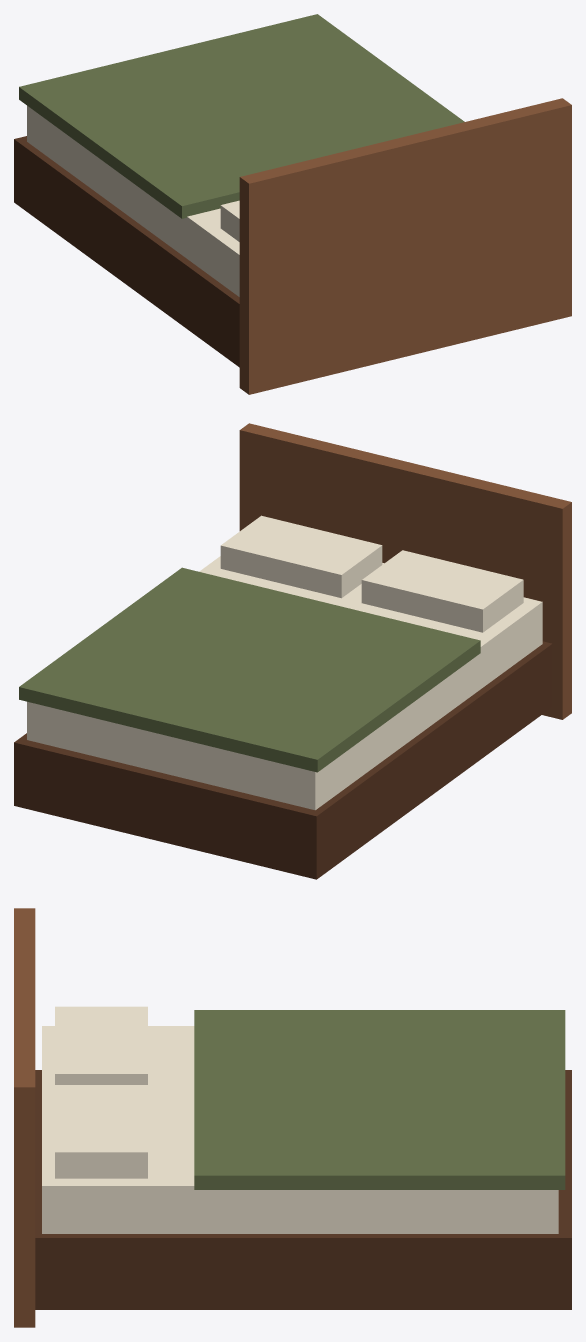
Rendered from parents_bed.glb.
3 renders of one model, top to bottom at view 1: azimuth 30°, elevation 25°; view 2: azimuth 150°, elevation 25°; view 3: azimuth 270°, elevation 25°, orthographic. The views are drawn at different scales.
Parts seen in each view (by area): view 1: Box6, Box3, Box1, Box2, Box5; view 2: Box3, Box1, Box6, Box2, Box5, Box4; view 3: Box3, Box1, Box2, Box6, Box4, Box5.
Boxes of the visible parts, left/top/right/bottom form: Box6: left=239, top=98, right=571, bottom=394; Box3: left=19, top=14, right=464, bottom=218; Box1: left=14, top=136, right=239, bottom=367; Box2: left=27, top=105, right=239, bottom=296; Box5: left=220, top=200, right=239, bottom=241; Box3: left=19, top=567, right=480, bottom=772; Box1: left=14, top=641, right=552, bottom=879; Box6: left=239, top=423, right=571, bottom=719; Box2: left=27, top=556, right=542, bottom=810; Box5: left=361, top=550, right=523, bottom=632; Box4: left=220, top=515, right=382, bottom=598; Box3: left=194, top=1010, right=565, bottom=1189; Box1: left=35, top=1070, right=571, bottom=1309; Box2: left=42, top=1026, right=558, bottom=1233; Box6: left=14, top=908, right=35, bottom=1327; Box4: left=55, top=1085, right=147, bottom=1178; Box5: left=55, top=1006, right=147, bottom=1084.
Size of the model in its own units: 1.6 by 1 by 2.11.
